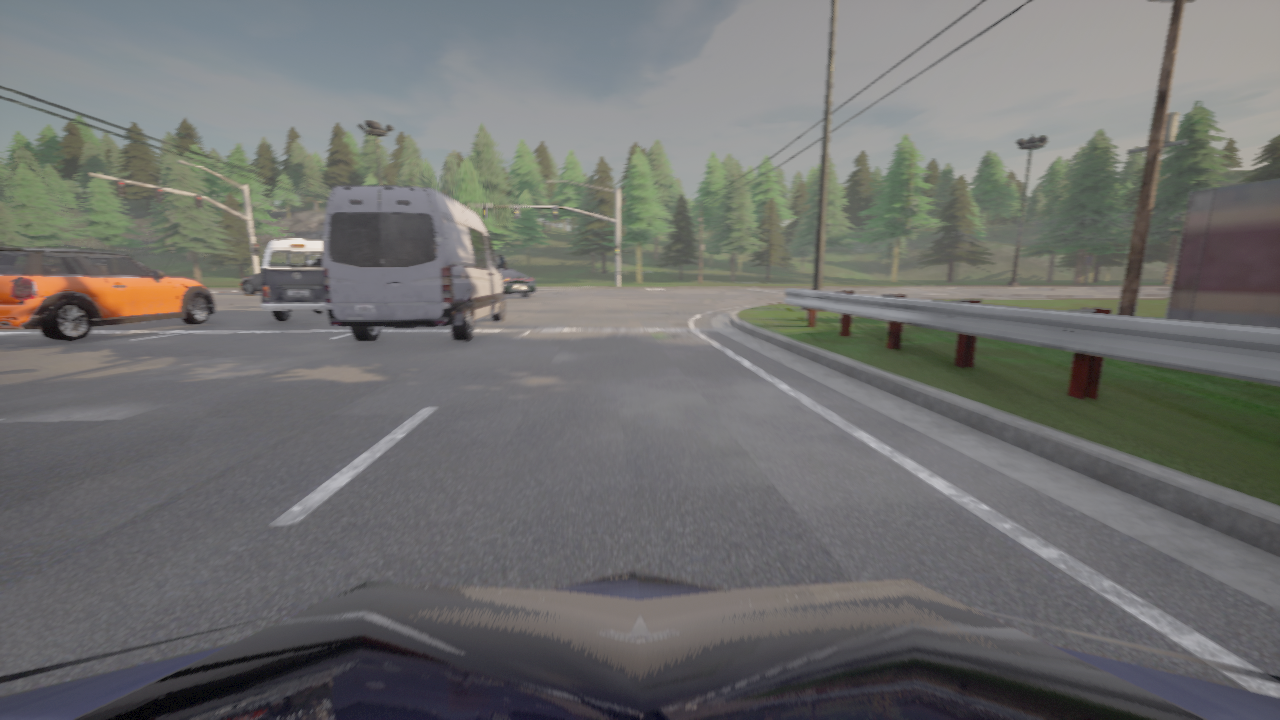cyclist: (0, 569, 1279, 719), (321, 186, 505, 341), (0, 240, 215, 341), (261, 239, 325, 321), (499, 268, 535, 297), (240, 272, 260, 294)
